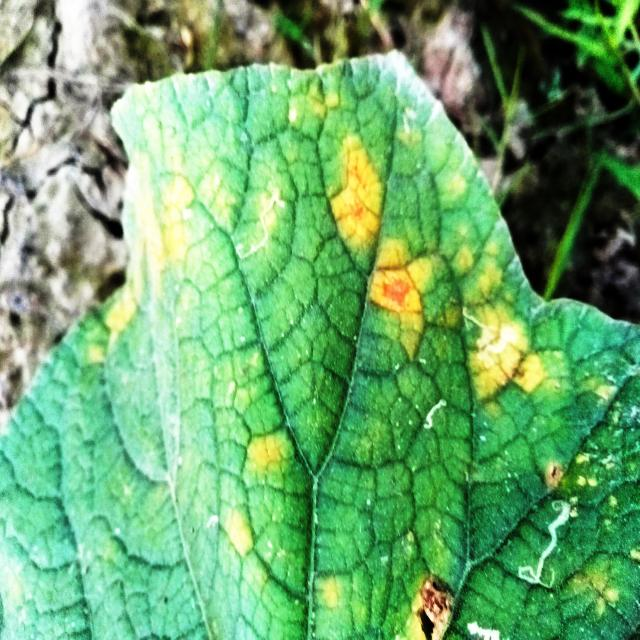Downy-Mildew: (3, 54, 640, 640)
